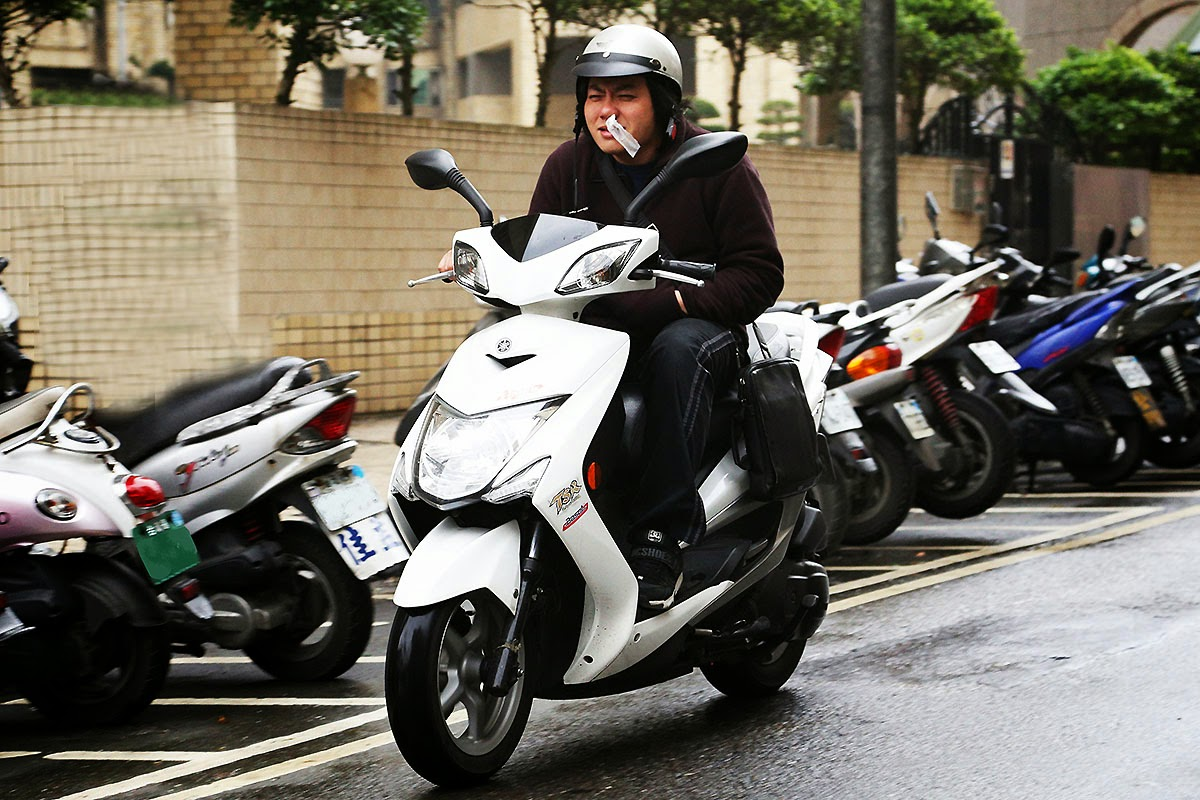helmet: (578, 16, 682, 102)
